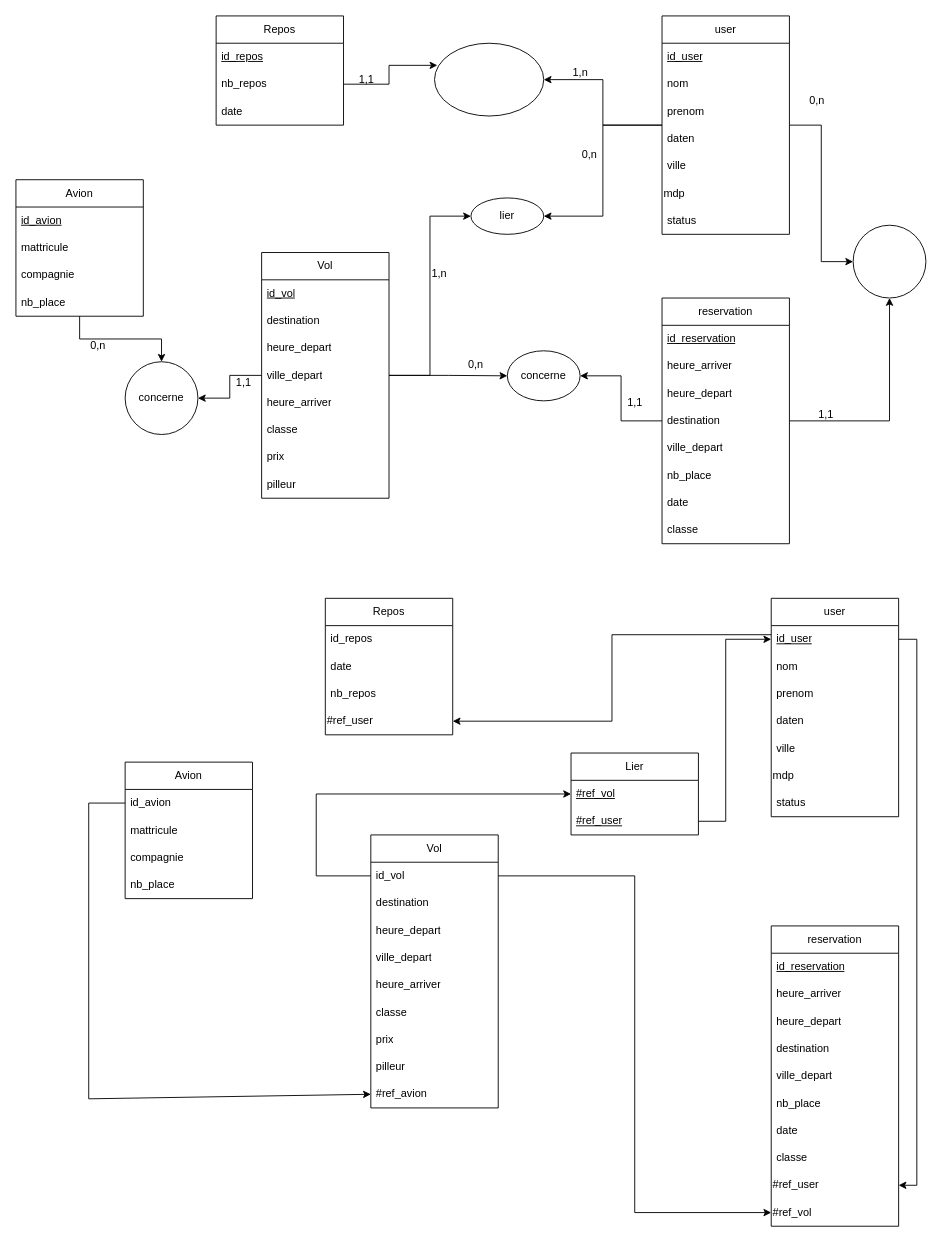
Image size: 942x1242. Some labels were removed from this diagram. The box of each missing label's shape, as (x1, y1, x2, y2) in pixels:
peux: (852, 224, 926, 298)
posséde: (434, 42, 544, 116)
